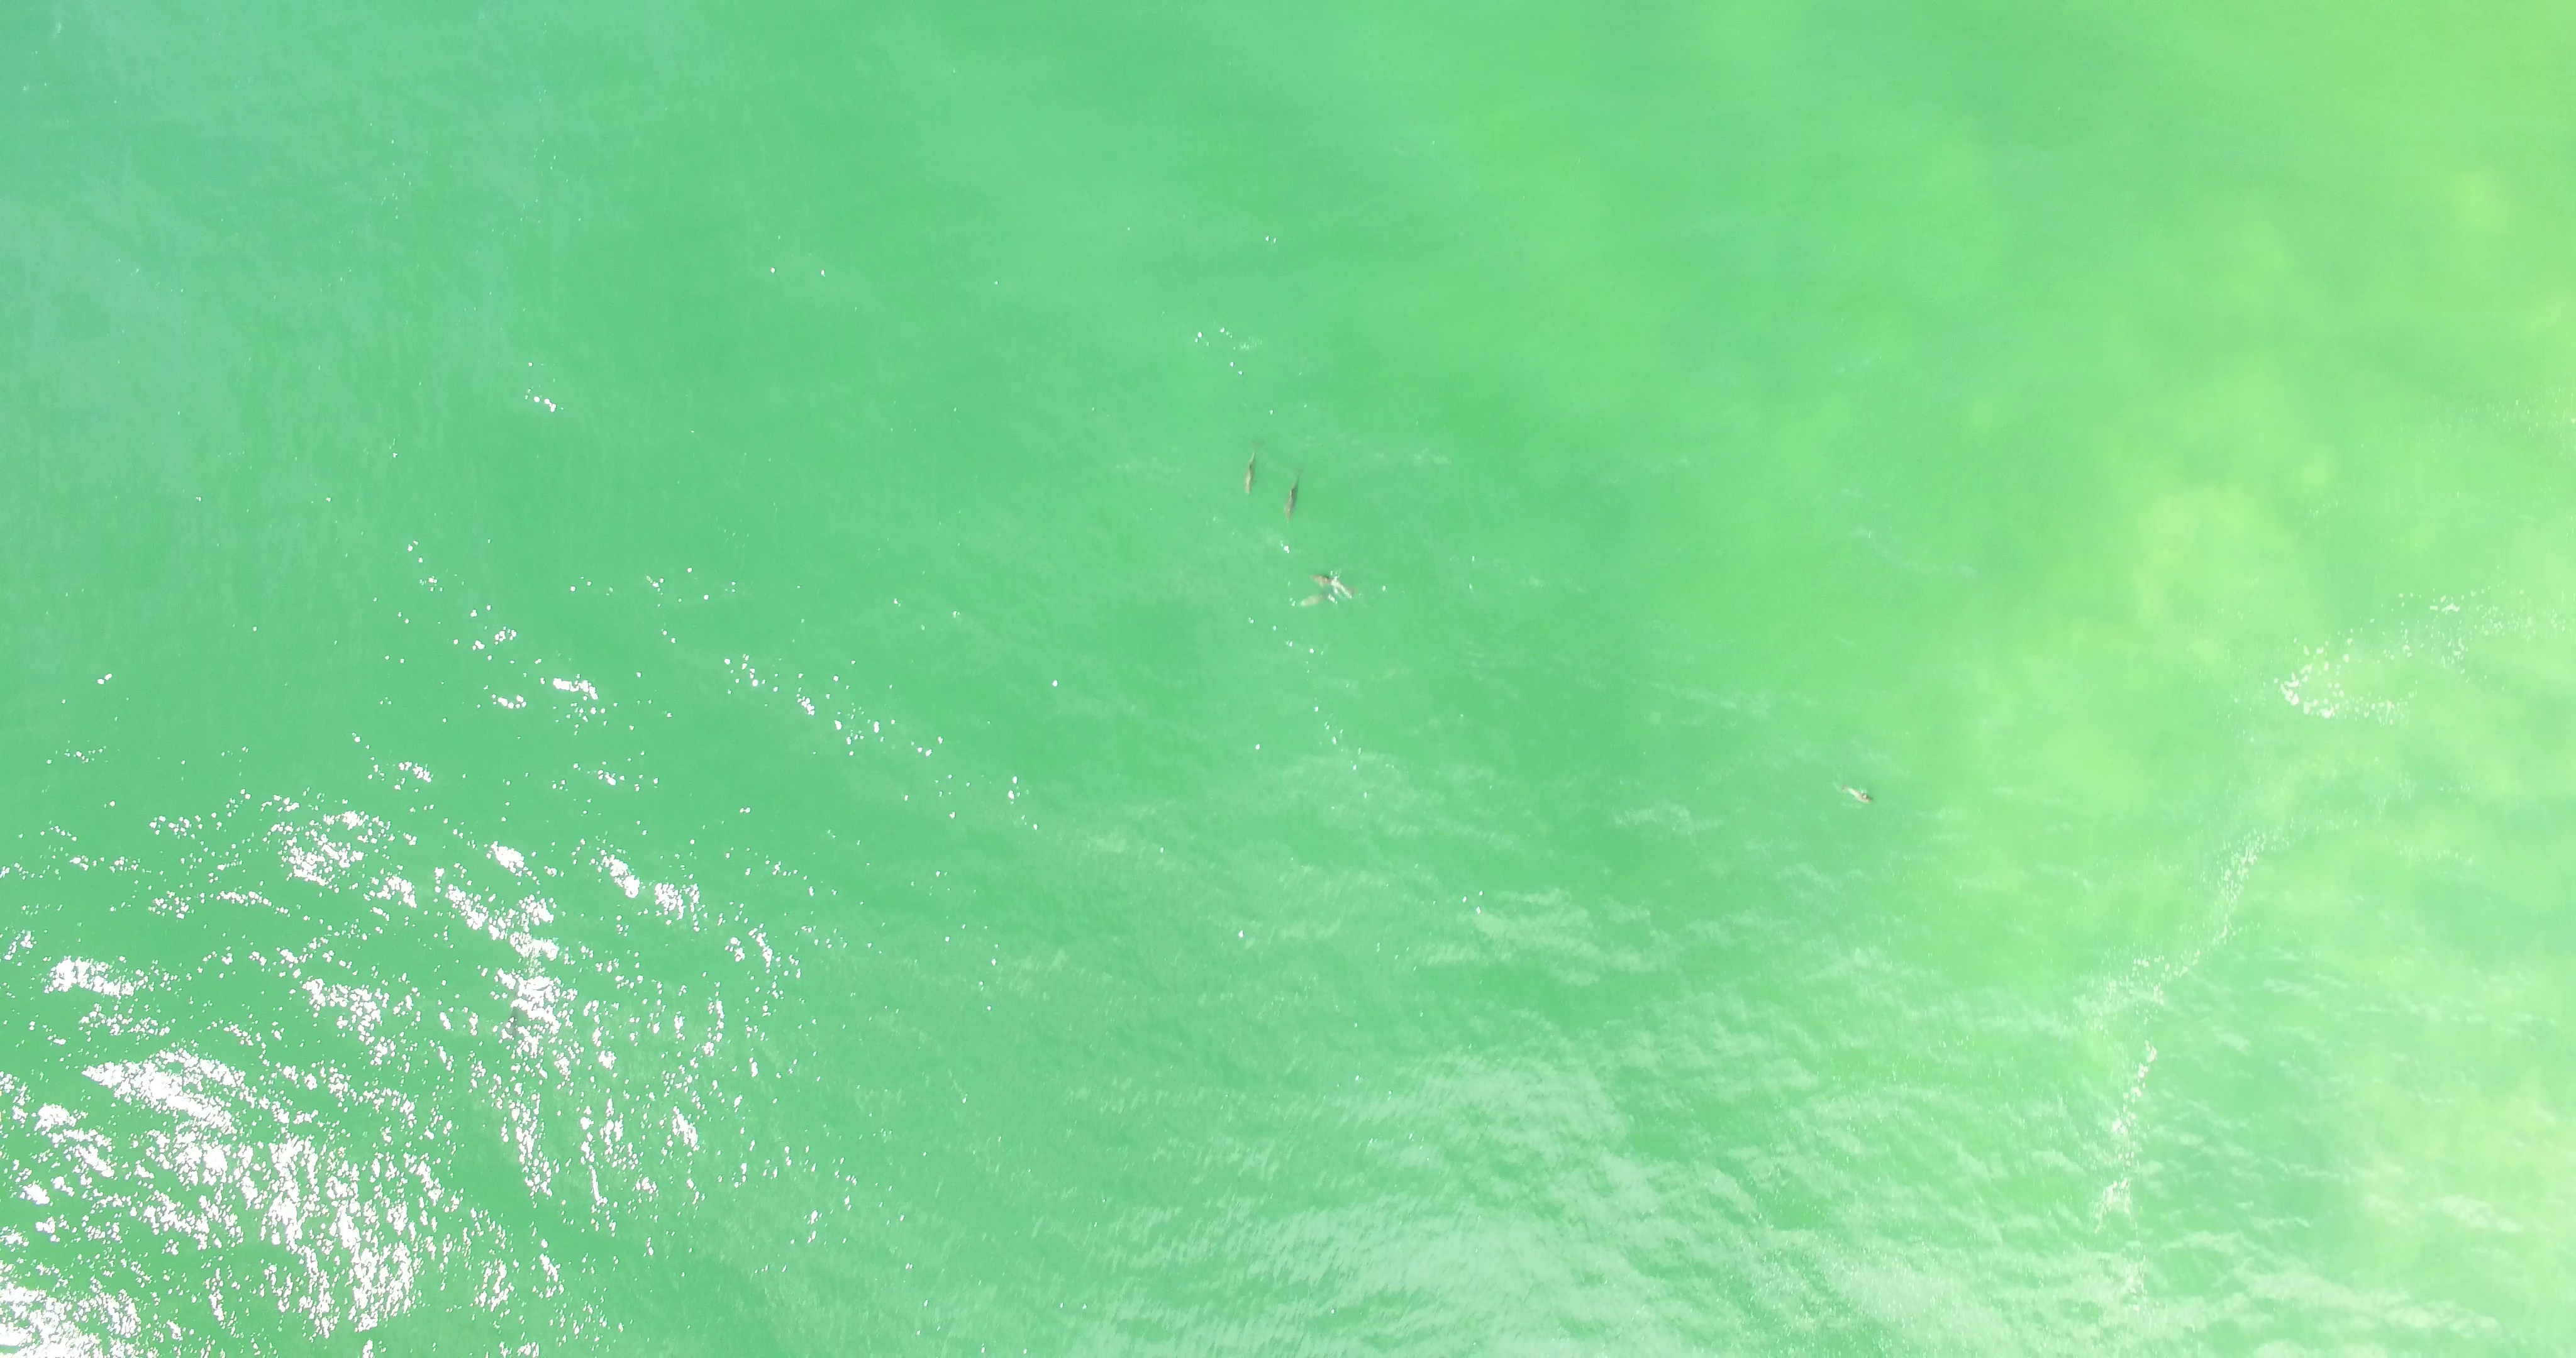dolphin: (1279, 465, 1307, 521), (1310, 571, 1361, 600), (1833, 777, 1877, 806), (1242, 441, 1264, 496), (1293, 593, 1348, 608)
